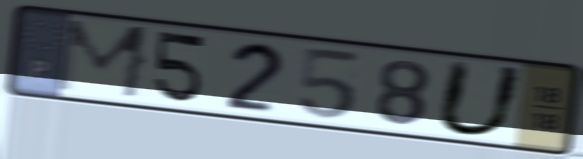2: (219, 37, 291, 118)
5: (293, 44, 364, 122), (151, 28, 208, 105)
8: (375, 58, 432, 127)
M: (52, 16, 157, 103)
U: (431, 56, 530, 139)
